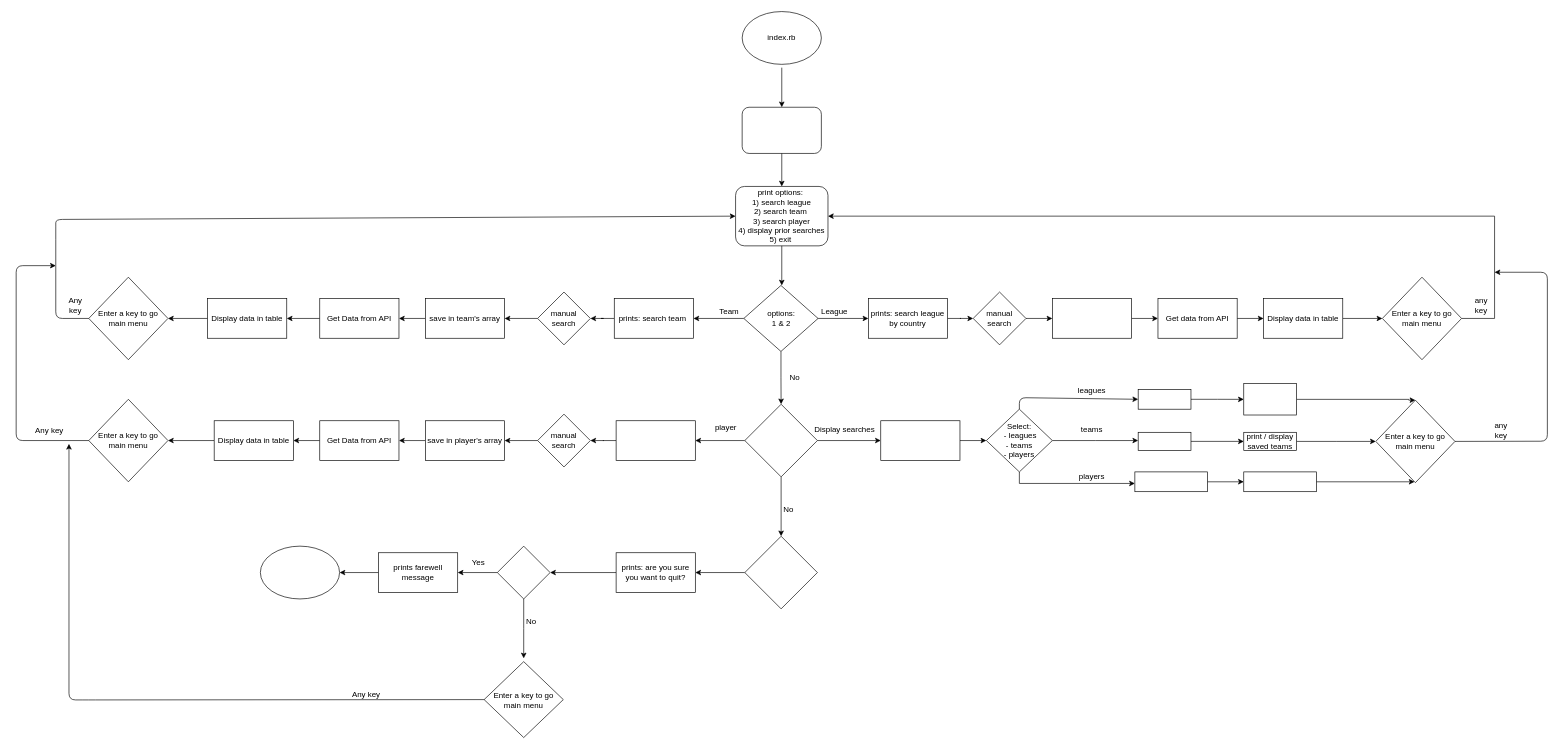
Image size: 1564x749. Some labels were removed from this diagram. Each missing label, with the centre of its shape:
"option: 5" belongs at (x=780, y=572).
"options: 3 & 4" belongs at (x=780, y=440).
"print / display saved leagues" belongs at (x=1270, y=399).
"print / display saved players" belongs at (x=1279, y=481).
"print welcome message + display store/saved searches" belongs at (x=781, y=130).
"prints: search player" belongs at (x=655, y=440).
"prints: searched: leagues teams players" belongs at (x=920, y=440).
"Quit" belongs at (x=300, y=572).
"retreive from teams array" belongs at (x=1164, y=441).
"retrieve from leagues array" belongs at (x=1164, y=399).
"retrieve from players array" belongs at (x=1170, y=481).
"Save in league's array" belongs at (x=1092, y=318).
"Type: yes" belongs at (x=523, y=572).
